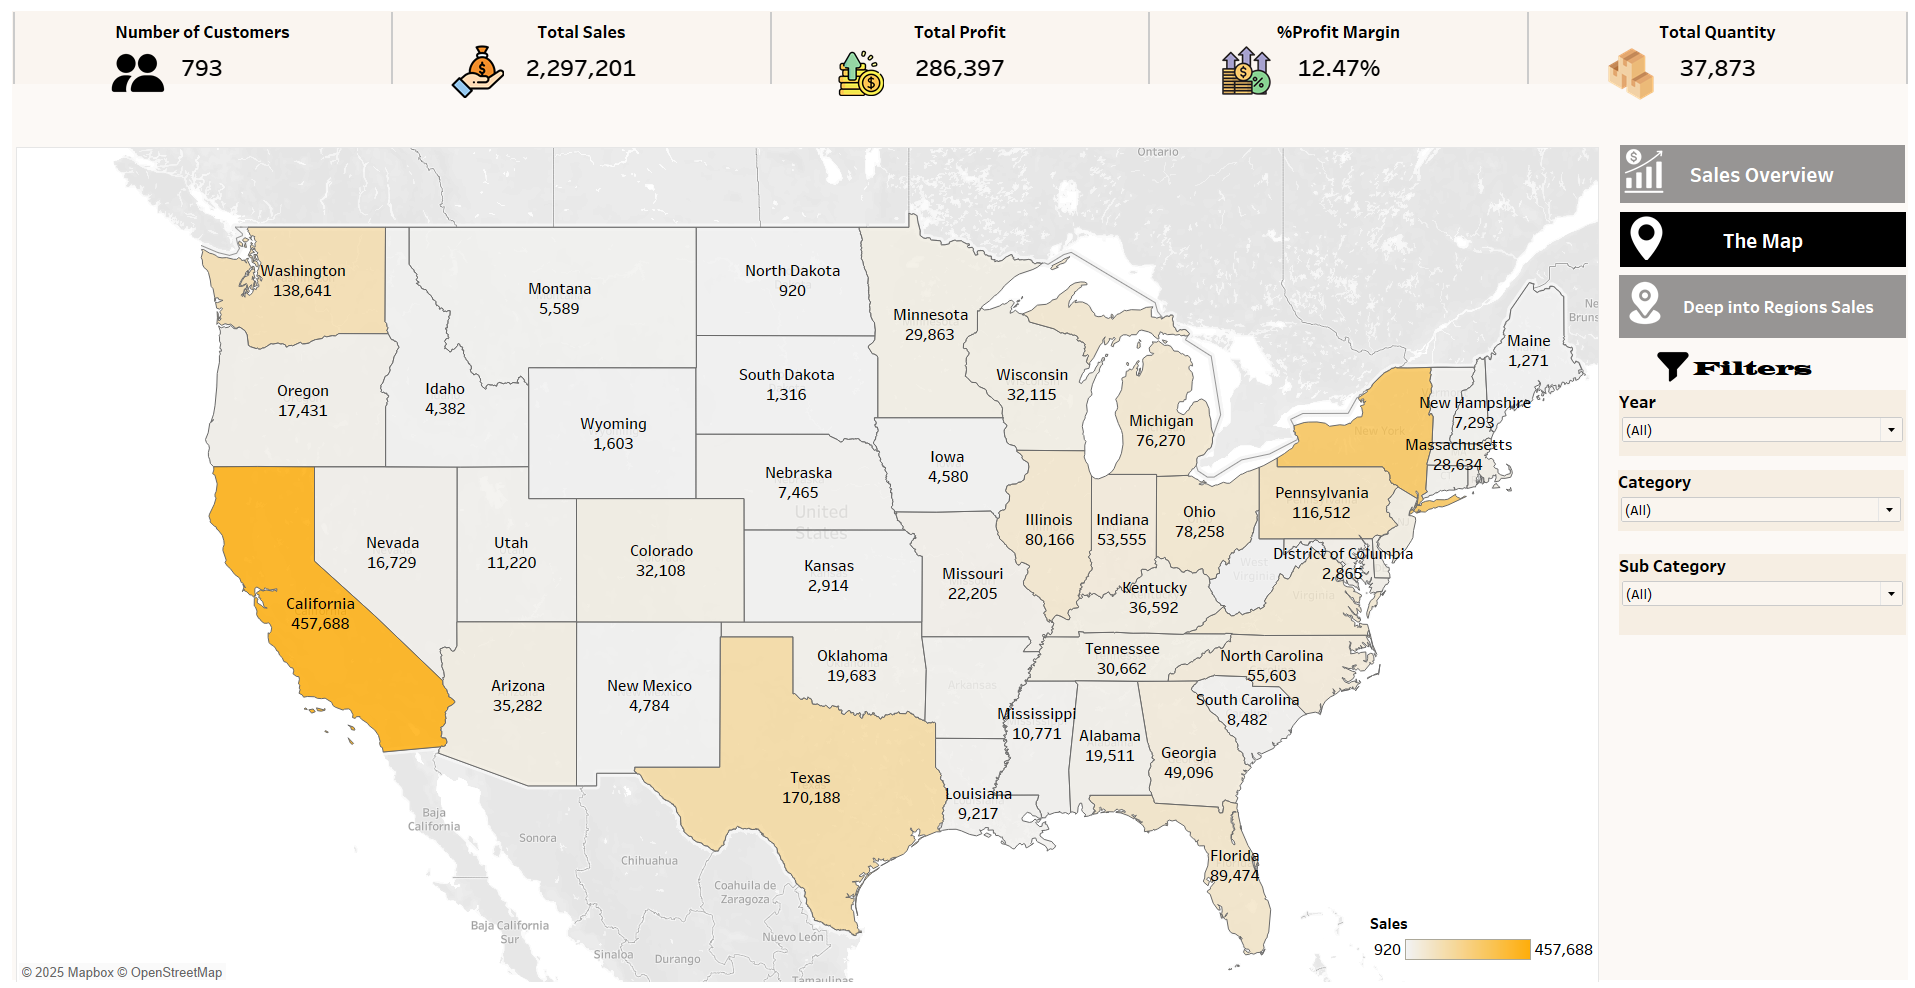

The page's visual inventory and layout, read from the dashboard file:
{"tool":"tableau","page":{"name":"Map Dashboaard","canvas":[1000,1000],"units":"permille","ordinal":1},"visuals":[{"type":"worksheet","title":"KPIs cards","mark":"Automatic","box":[4.2,8.1,991.7,983.9]},{"type":"image","param":"Image/people.png","box":[56.5,44.9,30.1,57.4]},{"type":"image","param":"Image/sales.png","box":[235.1,46.2,27.7,56.2]},{"type":"image","param":"Image/intere.png","box":[636,46.2,25.8,52.4]},{"type":"image","param":"Image/product.png","box":[834.8,47.4,32.4,54.9]},{"type":"image","param":"Image/profiiiits.png","box":[436.6,51.2,24.1,52.4]},{"type":"dashboard-object","box":[843.8,147.3,148.3,58.7]},{"type":"worksheet","title":"Map","mark":"Automatic","box":[8.4,148.6,824.6,841.5]},{"type":"image","param":"Image/increasing.png","box":[844.4,149.8,23.4,53.7]},{"type":"dashboard-object","box":[843.8,214.7,149,54.9]},{"type":"image","param":"Image/maps-and-flags.png","box":[845.6,218.5,22.8,46.2]},{"type":"dashboard-object","box":[843.2,278.4,149.6,63.7]},{"type":"image","param":"Image/pin.png","box":[845.1,283.4,23.4,57.4]},{"type":"text","box":[879.9,348.3,86.5,47.4]},{"type":"image","param":"Image/filter.png","box":[861.3,350.8,21.6,37.5]},{"type":"filter","title":"KPIs cards","param":"[federated.0lt59b407nwqe619xtjuy02dwa0f].[yr:Order Date:ok]","box":[843.2,393.3,149.6,67.4]},{"type":"filter","title":"KPIs cards","param":"[federated.0lt59b407nwqe619xtjuy02dwa0f].[none:Category:nk]","box":[842.6,474.4,149,61.2]},{"type":"filter","title":"KPIs cards","param":"[federated.0lt59b407nwqe619xtjuy02dwa0f].[none:Sub-Category:nk]","box":[843.2,559.3,149.6,81.2]}]}

Visuals, with their boxes on the dashboard's canvas, which has no fixed pixel size, in thousandths of its width and height (x1, y1, x2, y2). These are canvas units, not pixel positions in the 1915x988 screenshot, which may show the page scaled, cropped or inside an application window:
"KPIs cards" worksheet: box(4, 8, 996, 992)
image: box(56, 45, 87, 102)
image: box(235, 46, 263, 102)
image: box(636, 46, 662, 99)
image: box(835, 47, 867, 102)
image: box(437, 51, 461, 104)
dashboard-object: box(844, 147, 992, 206)
"Map" worksheet: box(8, 149, 833, 990)
image: box(844, 150, 868, 204)
dashboard-object: box(844, 215, 993, 270)
image: box(846, 218, 868, 265)
dashboard-object: box(843, 278, 993, 342)
image: box(845, 283, 868, 341)
text: box(880, 348, 966, 396)
image: box(861, 351, 883, 388)
"KPIs cards" filter: box(843, 393, 993, 461)
"KPIs cards" filter: box(843, 474, 992, 536)
"KPIs cards" filter: box(843, 559, 993, 640)
